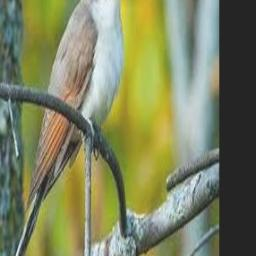Cuckoo: (0, 0, 125, 256)
